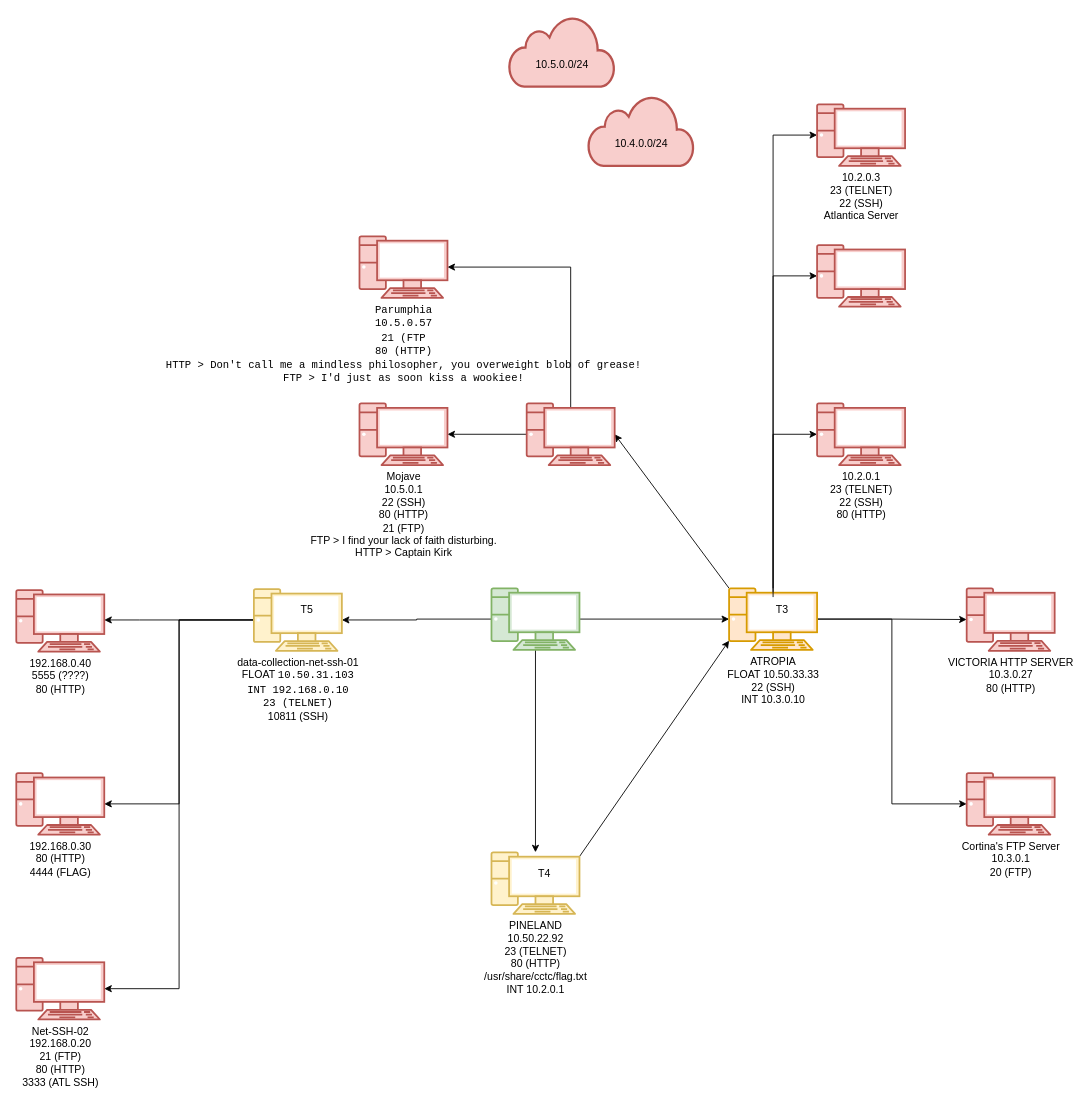
The diagram is 1089 pixels wide and 1104 high, and some of its shapes have lost their labels. The shapes that lost their labels are listed below. From the top down, each one's centre as x and y in pixels, then its label:
At point 861,275: "10.2.0.2 21 (FTP) 80 (HTTP) Mohamads".
At point 570,434: "10.4.0.1 22 (SSH)".
At point 535,618: "YOU".
